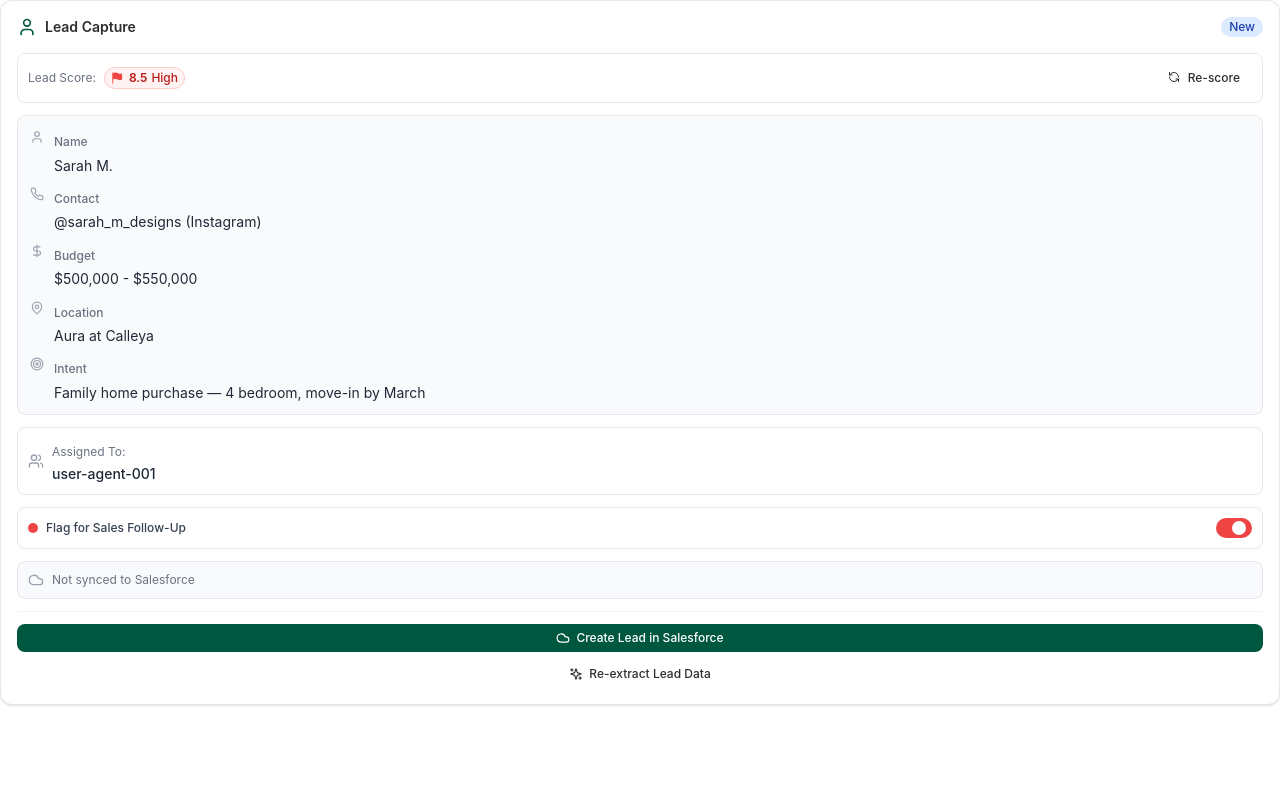
LeadCaptureSidebar › Salesforce sync › shows sync error when Salesforce sync fails
What coordinates should you click on to do the following:
click the button "Create Lead in Salesforce"
I would click on:
 (640, 638)
Its box is [17,624,1263,652].
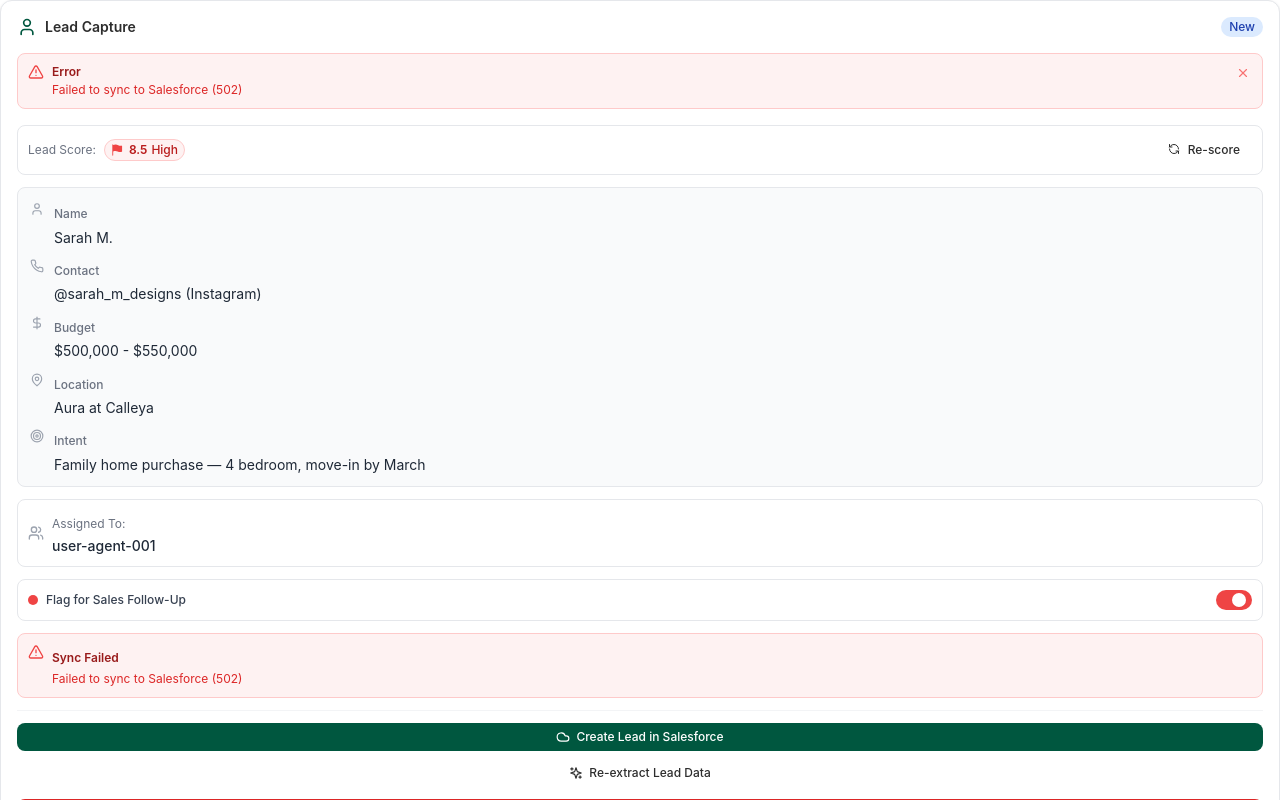
Now the text "Sync Failed" is shown, box [52,650,119,665]
